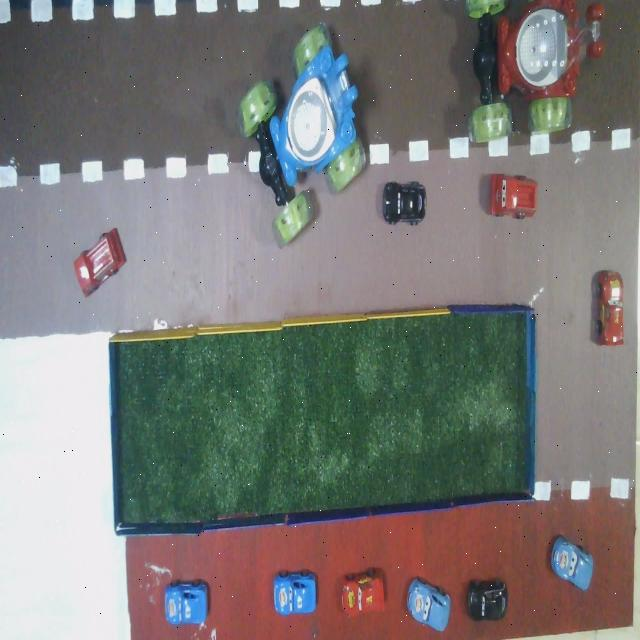driver car f: (238, 23, 365, 246)
small cars: (74, 228, 126, 297), (407, 578, 450, 631), (551, 536, 593, 590), (490, 175, 537, 219), (596, 271, 623, 345), (342, 569, 384, 616), (165, 581, 208, 625), (383, 182, 426, 225), (274, 571, 316, 615), (468, 579, 507, 621)
